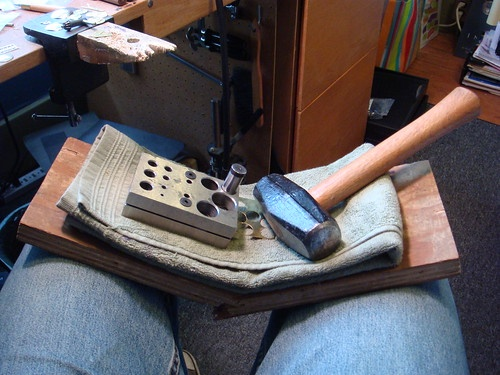hammer: (253, 78, 485, 261)
